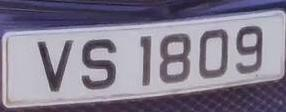0: (192, 24, 237, 80)
1: (132, 30, 161, 93)
8: (155, 25, 196, 90)
9: (233, 20, 269, 76)
S: (73, 31, 120, 94)
V: (32, 33, 79, 97)
